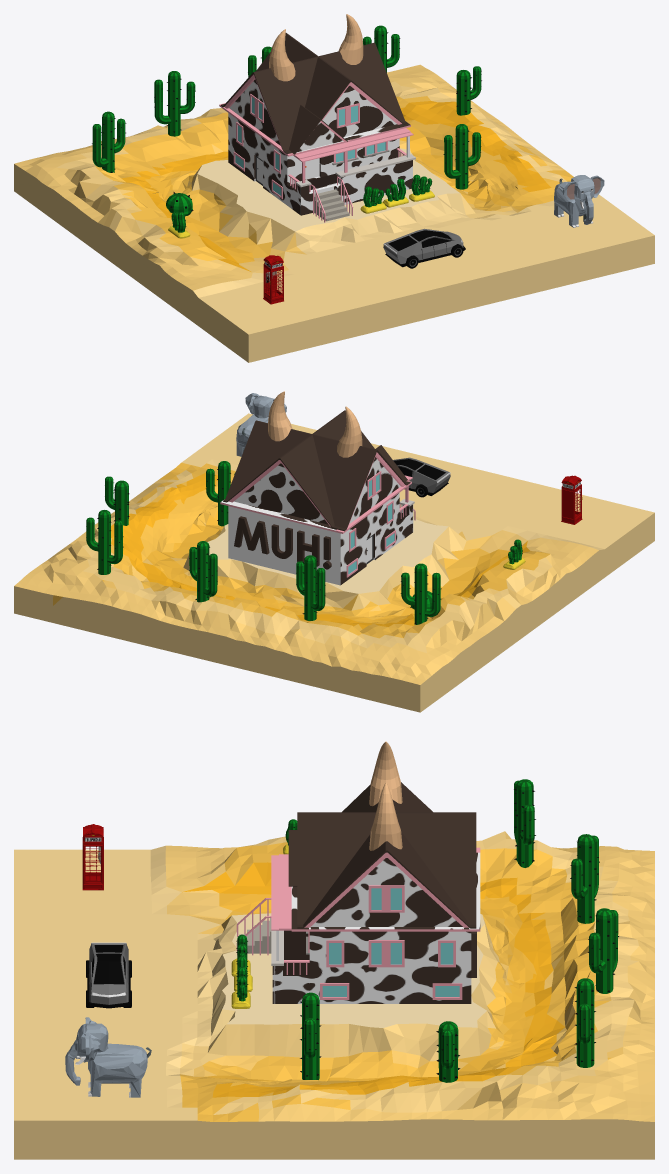
3 renders of one model, top to bottom at view 1: azimuth 30°, elevation 25°; view 2: azimuth 150°, elevation 25°; view 3: azimuth 270°, elevation 25°, orthographic. The views are drawn at different scales.
Visible parts, largest first — view 1: Cube.001, Cube.1242, VEHICLES_CYBERTRUCK, ANIMAL_ELEFANTE, Cylinder.037, Cylinder.044, Cylinder.045, OBJRANDOM_PHONEBOOTH, Cylinder.038, Cylinder.042, Cylinder.041, Cylinder.039; view 2: Cube.001, Cube.1242, Cylinder.045, Cylinder.042, Cylinder.044, Cylinder.043, VEHICLES_CYBERTRUCK, ANIMAL_ELEFANTE, Cylinder.037, OBJRANDOM_PHONEBOOTH, Cylinder.038; view 3: Cube.001, Cube.1242, ANIMAL_ELEFANTE, VEHICLES_CYBERTRUCK, Cylinder.044, Cylinder.043, Cylinder.045, Cylinder.042, Cylinder.037, OBJRANDOM_PHONEBOOTH, Cylinder.038, Cylinder.041.
Boxes of the visible parts, x1=… form: Cube.001: x1=14, y1=64, x2=654, y2=362; Cube.1242: x1=219, y1=14, x2=415, y2=222; VEHICLES_CYBERTRUCK: x1=383, y1=228, x2=465, y2=268; ANIMAL_ELEFANTE: x1=554, y1=175, x2=604, y2=227; Cylinder.037: x1=443, y1=124, x2=481, y2=189; Cylinder.044: x1=154, y1=71, x2=195, y2=136; Cylinder.045: x1=92, y1=111, x2=126, y2=172; OBJRANDOM_PHONEBOOTH: x1=263, y1=255, x2=283, y2=304; Cylinder.038: x1=456, y1=66, x2=481, y2=115; Cylinder.042: x1=363, y1=25, x2=400, y2=72; Cylinder.041: x1=409, y1=174, x2=434, y2=201; Cylinder.039: x1=360, y1=186, x2=386, y2=213; Cube.001: x1=14, y1=413, x2=654, y2=712; Cube.1242: x1=220, y1=391, x2=415, y2=585; Cylinder.045: x1=400, y1=563, x2=441, y2=624; Cylinder.042: x1=86, y1=510, x2=123, y2=574; Cylinder.044: x1=296, y1=555, x2=325, y2=620; Cylinder.043: x1=189, y1=541, x2=217, y2=602; VEHICLES_CYBERTRUCK: x1=393, y1=457, x2=450, y2=497; ANIMAL_ELEFANTE: x1=236, y1=393, x2=286, y2=456; Cylinder.037: x1=206, y1=461, x2=235, y2=526; OBJRANDOM_PHONEBOOTH: x1=561, y1=475, x2=582, y2=524; Cylinder.038: x1=105, y1=476, x2=129, y2=525; Cube.001: x1=14, y1=831, x2=654, y2=1159; Cube.1242: x1=236, y1=741, x2=480, y2=1003; ANIMAL_ELEFANTE: x1=65, y1=1017, x2=151, y2=1097; VEHICLES_CYBERTRUCK: x1=86, y1=942, x2=131, y2=1008; Cylinder.044: x1=570, y1=834, x2=599, y2=923; Cylinder.043: x1=588, y1=908, x2=618, y2=993; Cylinder.045: x1=514, y1=779, x2=535, y2=867; Cylinder.042: x1=574, y1=978, x2=595, y2=1067; Cylinder.037: x1=300, y1=992, x2=321, y2=1079; OBJRANDOM_PHONEBOOTH: x1=82, y1=824, x2=103, y2=890; Cylinder.038: x1=436, y1=1021, x2=460, y2=1082; Cylinder.041: x1=231, y1=966, x2=250, y2=1008.
Size of the model in its own units: 4002 by 1987 by 4001.
39 materials, 2 textured.
